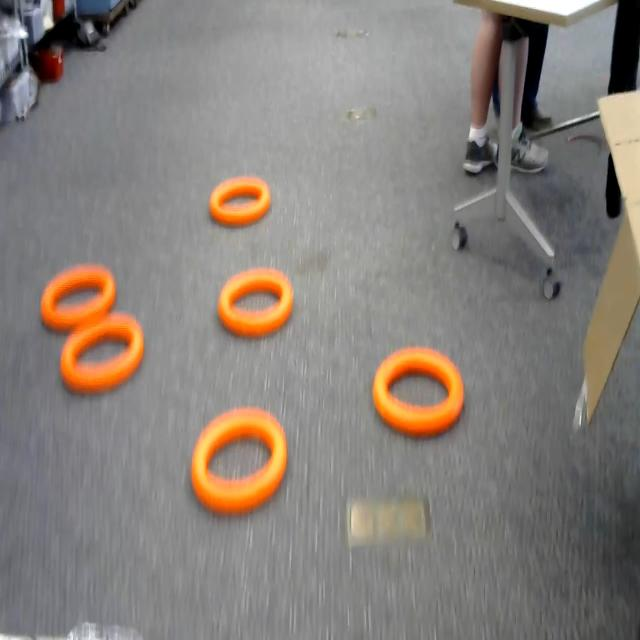note: (186, 398, 288, 522), (372, 340, 470, 440), (54, 319, 148, 398), (216, 262, 298, 340), (42, 257, 126, 330), (206, 176, 274, 233)
